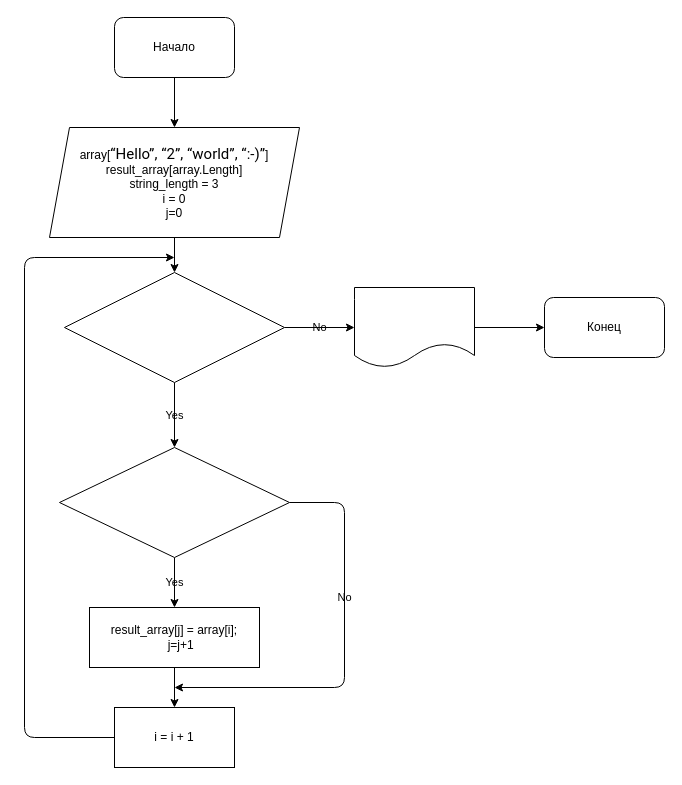
Some shapes in this 682 by 785 pixel diagram are drawn without their labels. Each missing label, with the box of its shape:
array[i].Length < string_length: (58, 446, 290, 558)
i < array.Length: (64, 272, 284, 382)
print(result_array): (354, 286, 474, 368)
